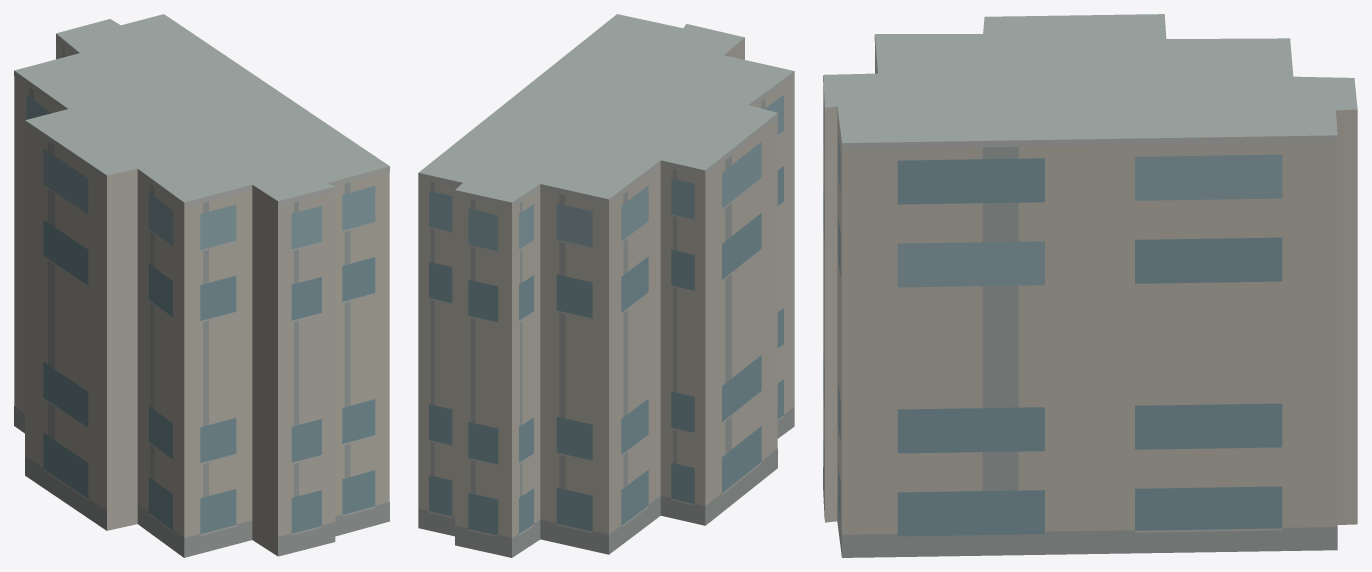
File: survey-upis-32812776.glb
The picture shows the model from 3 angles, left to right: view 1: azimuth 30°, elevation 25°; view 2: azimuth 150°, elevation 25°; view 3: azimuth 270°, elevation 25°; orthographic projection. The views are drawn at different scales.
Parts seen in each view (by area): view 1: survey-upis-32812776.tmp; view 2: survey-upis-32812776.tmp; view 3: survey-upis-32812776.tmp.
Boxes of the visible parts, x1,y1,x2,y2 form: survey-upis-32812776.tmp: (14,14,389,557); survey-upis-32812776.tmp: (418,14,794,557); survey-upis-32812776.tmp: (823,14,1357,557).
Size of the model in its own units: 10.18 by 15.25 by 17.82.
